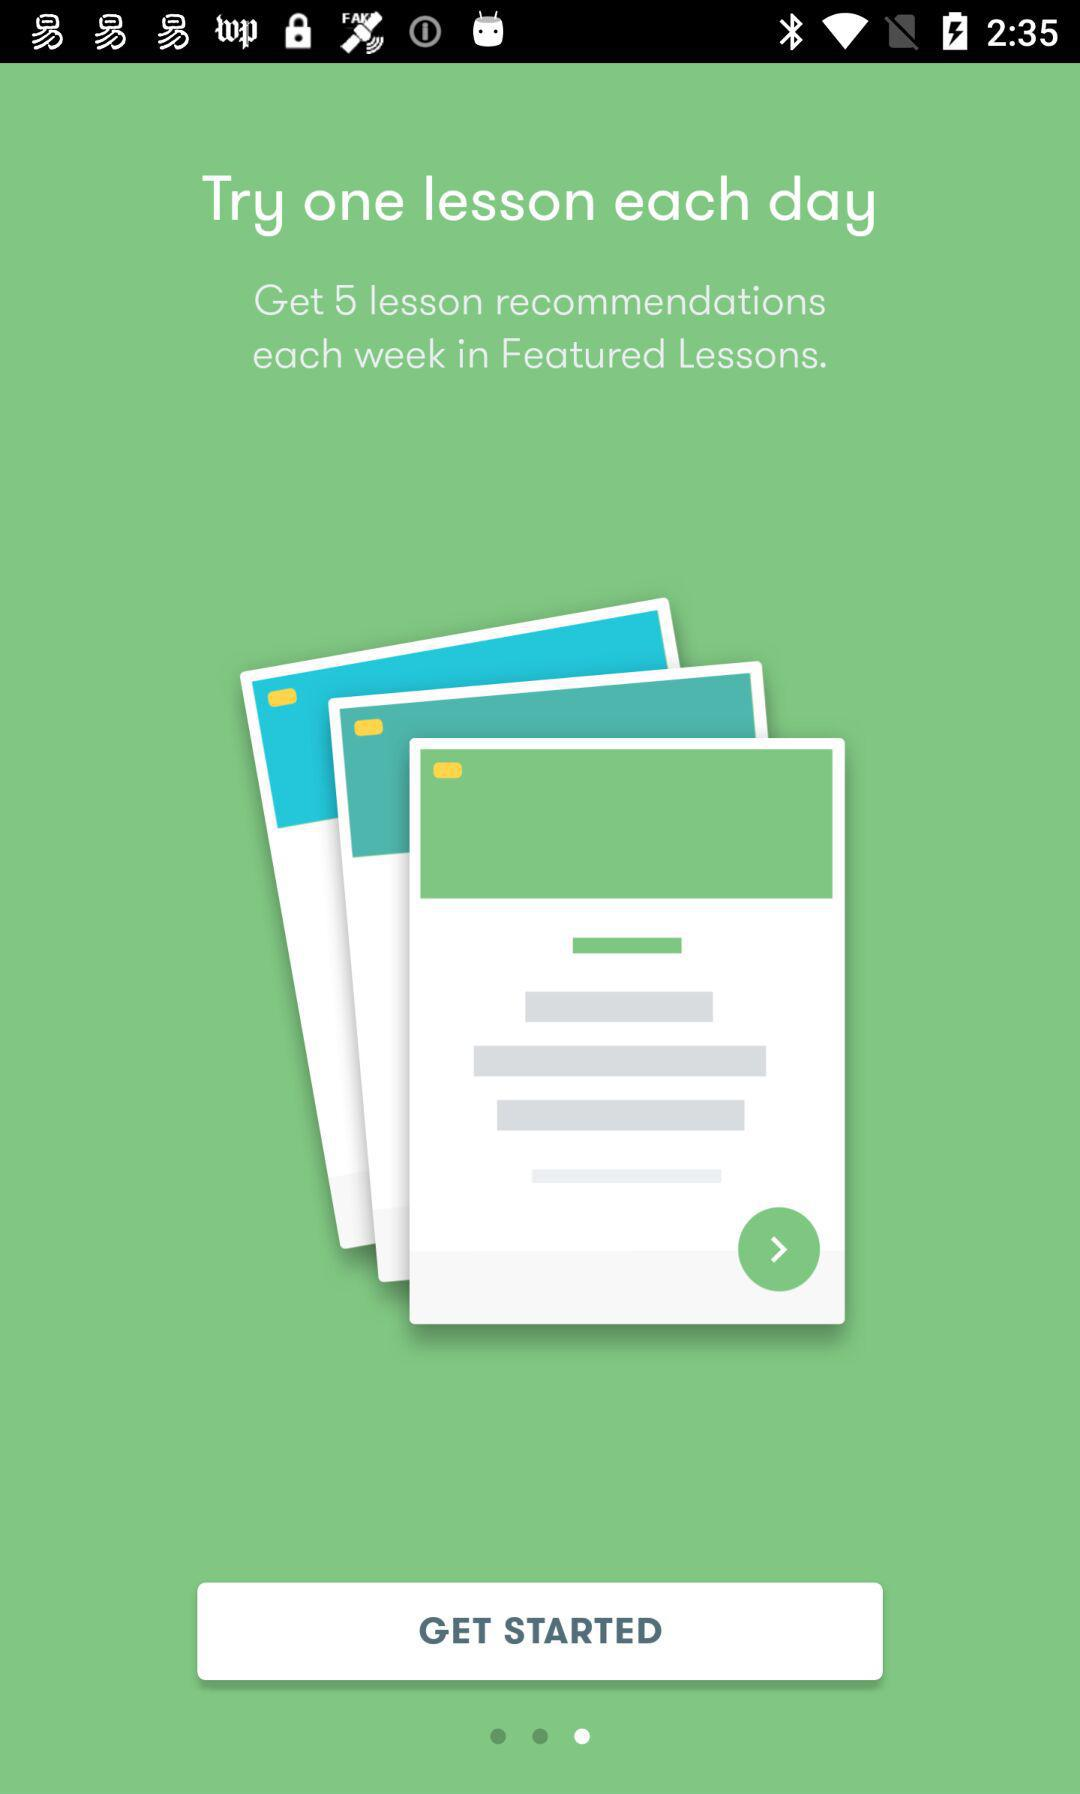Image: (240, 596, 846, 1325)
PageIndicator: (489, 1727, 592, 1747)
Text: (252, 284, 828, 370), (201, 176, 875, 240)
TextButton: (197, 1583, 884, 1681)
UpperTaskBar: (1, 1, 1080, 64)
